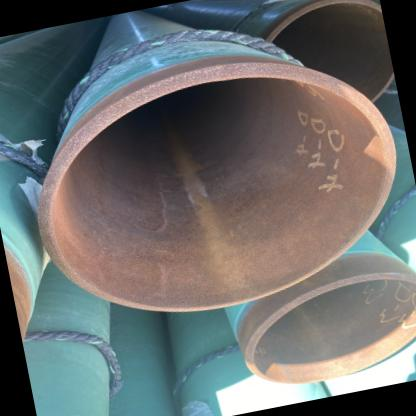clean: (184, 60, 236, 104)
